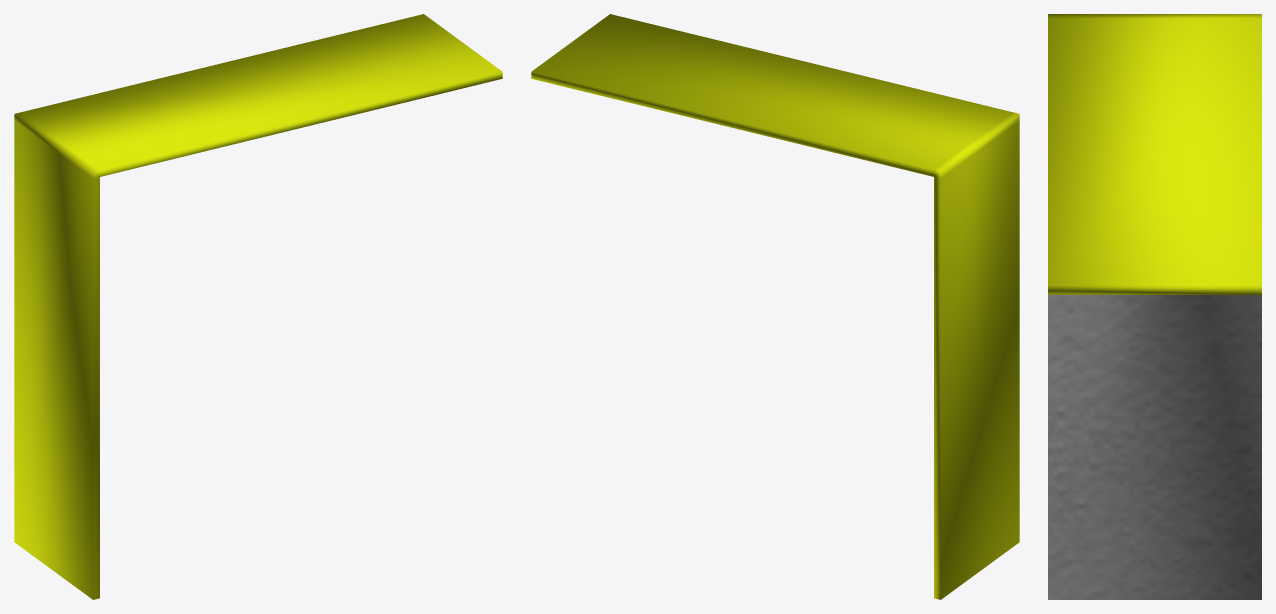
File: wall_kitchen_v2.fbx
3 renders of one model, left to right at view 1: azimuth 30°, elevation 25°; view 2: azimuth 150°, elevation 25°; view 3: azimuth 270°, elevation 25°, orthographic. The views are drawn at different scales.
Visible parts, largest first — view 1: Cube.001; view 2: Cube.001; view 3: Cube.001.
Part boxes in pixels (x1,y1,x2,y2): Cube.001: (14,14,502,599); Cube.001: (531,14,1019,599); Cube.001: (1048,14,1261,599).
Size of the model in its own units: 0.03 by 0.03 by 0.01.
